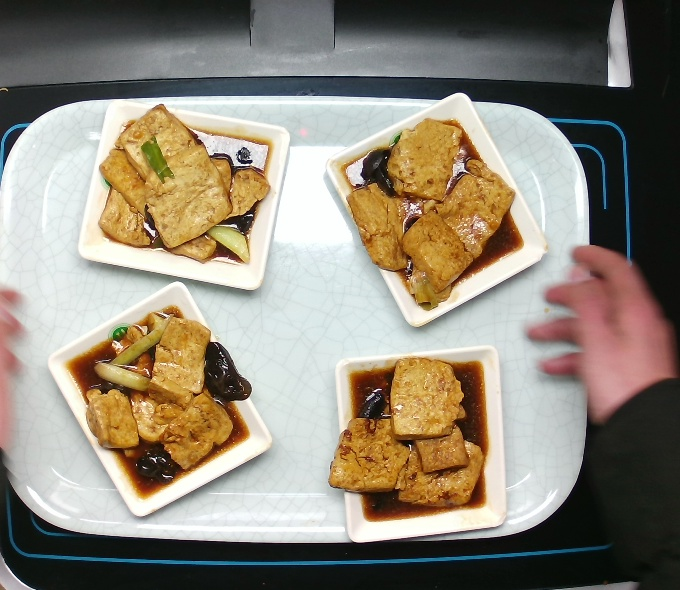wcq-JiaChangDouFu: (338, 114, 531, 315), (63, 303, 256, 503), (92, 100, 275, 270), (325, 353, 493, 526)
